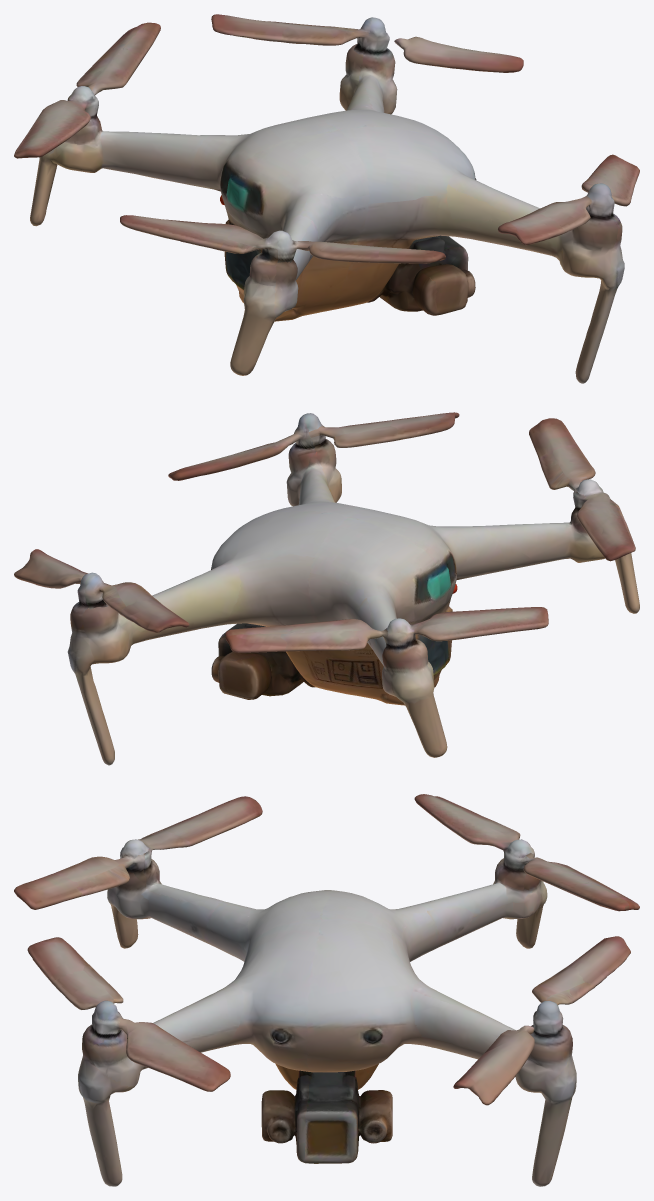
The model's file is cargo_drone.glb.
3 renders of one model, top to bottom at view 1: azimuth 30°, elevation 25°; view 2: azimuth 150°, elevation 25°; view 3: azimuth 270°, elevation 25°, orthographic. The views are drawn at different scales.
Visible parts, largest first — view 1: tripo_node_415eaa7a-99b6-4b4f-8317-7a5ae7421fbc; view 2: tripo_node_415eaa7a-99b6-4b4f-8317-7a5ae7421fbc; view 3: tripo_node_415eaa7a-99b6-4b4f-8317-7a5ae7421fbc.
Part boxes in pixels (<box>): tripo_node_415eaa7a-99b6-4b4f-8317-7a5ae7421fbc: <box>14,14,639,383</box>; tripo_node_415eaa7a-99b6-4b4f-8317-7a5ae7421fbc: <box>14,412,639,765</box>; tripo_node_415eaa7a-99b6-4b4f-8317-7a5ae7421fbc: <box>14,794,639,1186</box>.
Bounding box in the file's own units: 0.901 × 0.3476 × 0.9475.
1 material, 1 textured.
